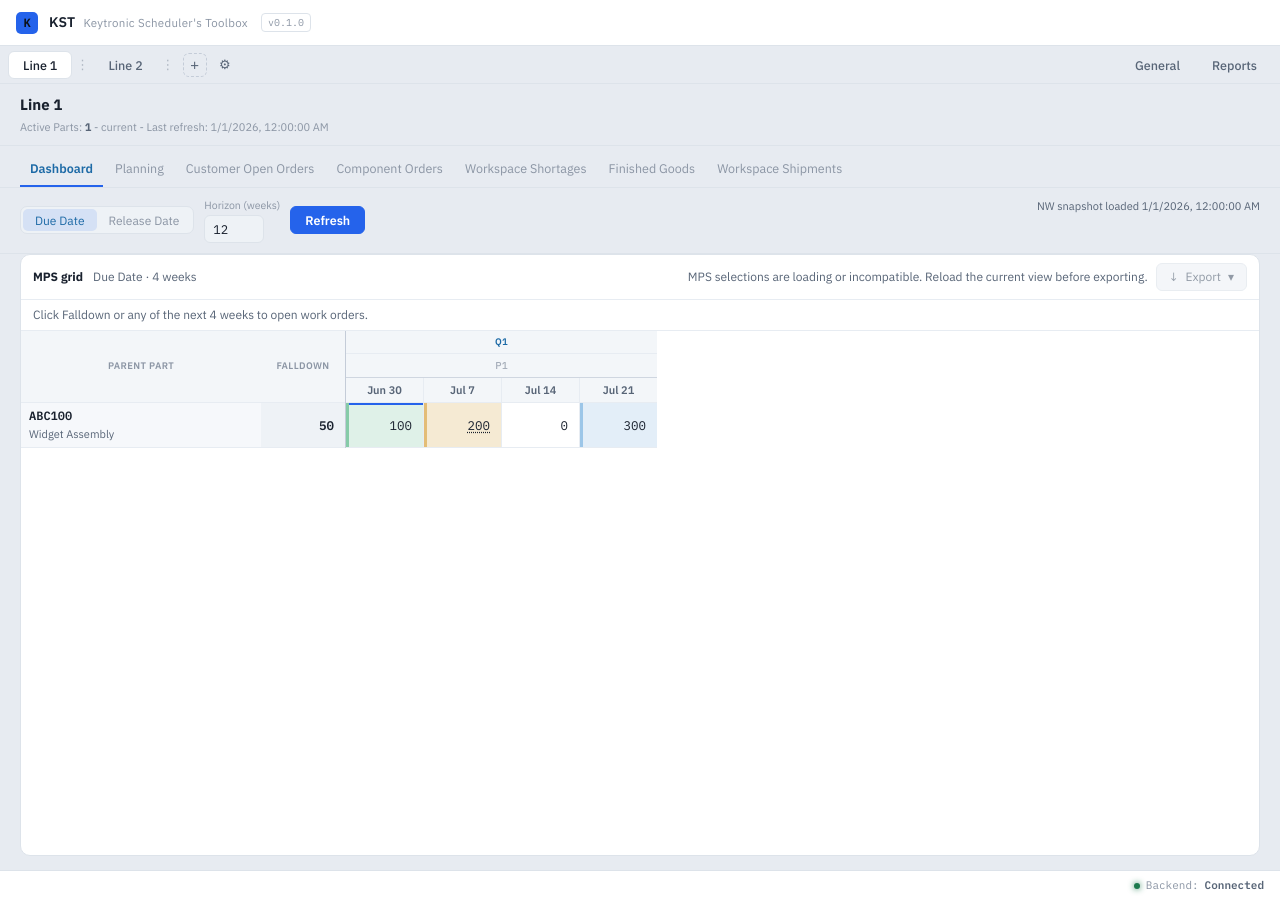
Test: MpsWorkspace › keeps the Dashboard state loaded while customer modules are switched
Check: the text "Backend:" reads "Backend: Connected", box [1134,877,1264,894]
Check: the text "ABC100" is shown, box [29,408,72,423]
Click the tab "Line 2" at (126, 64), box [93,50,158,78]
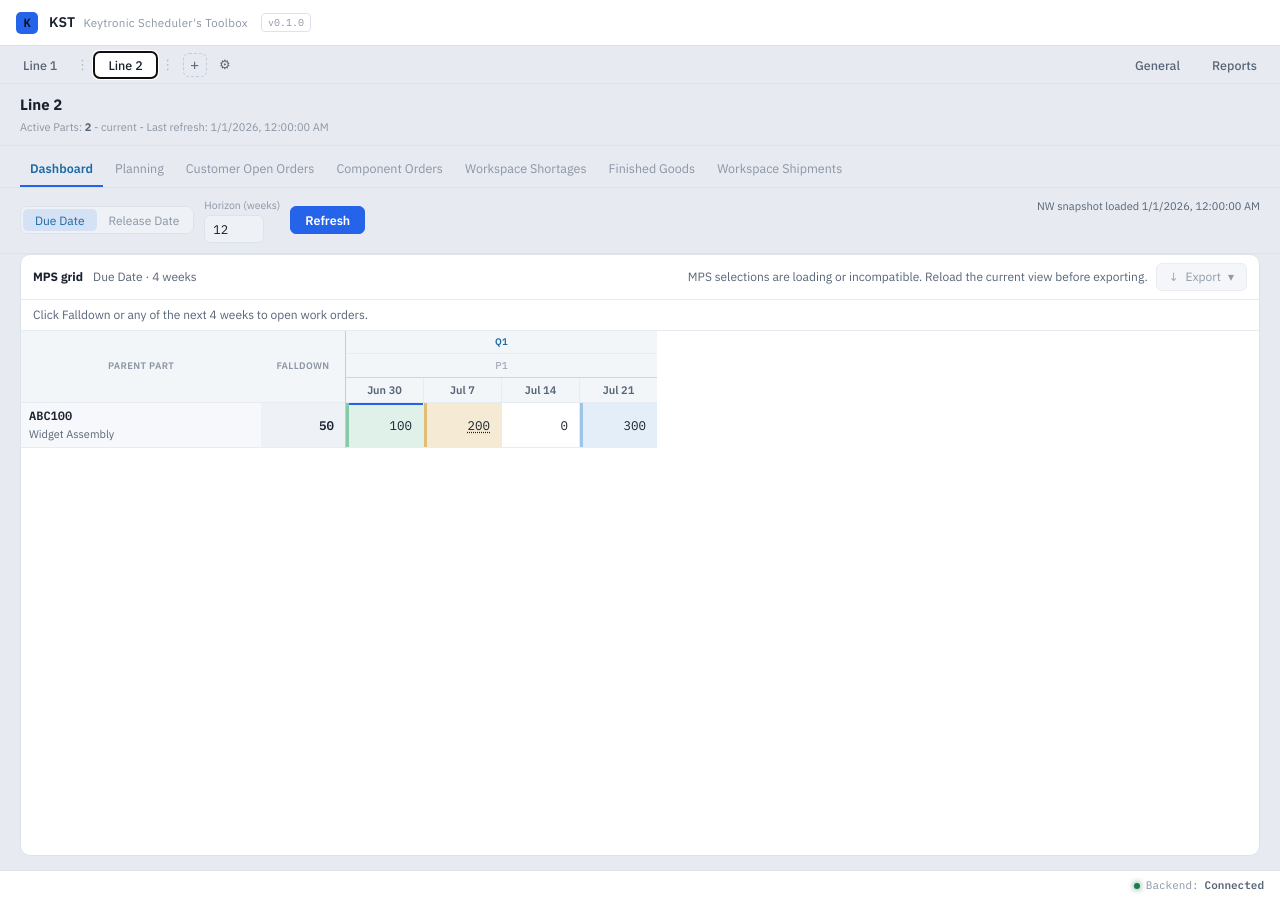
Check: the text with test id "active-parts-count" reads "2", box [85,120,91,134]
Click the text with class "mps-grid__part-number" at (51, 416), box [29,408,72,423]
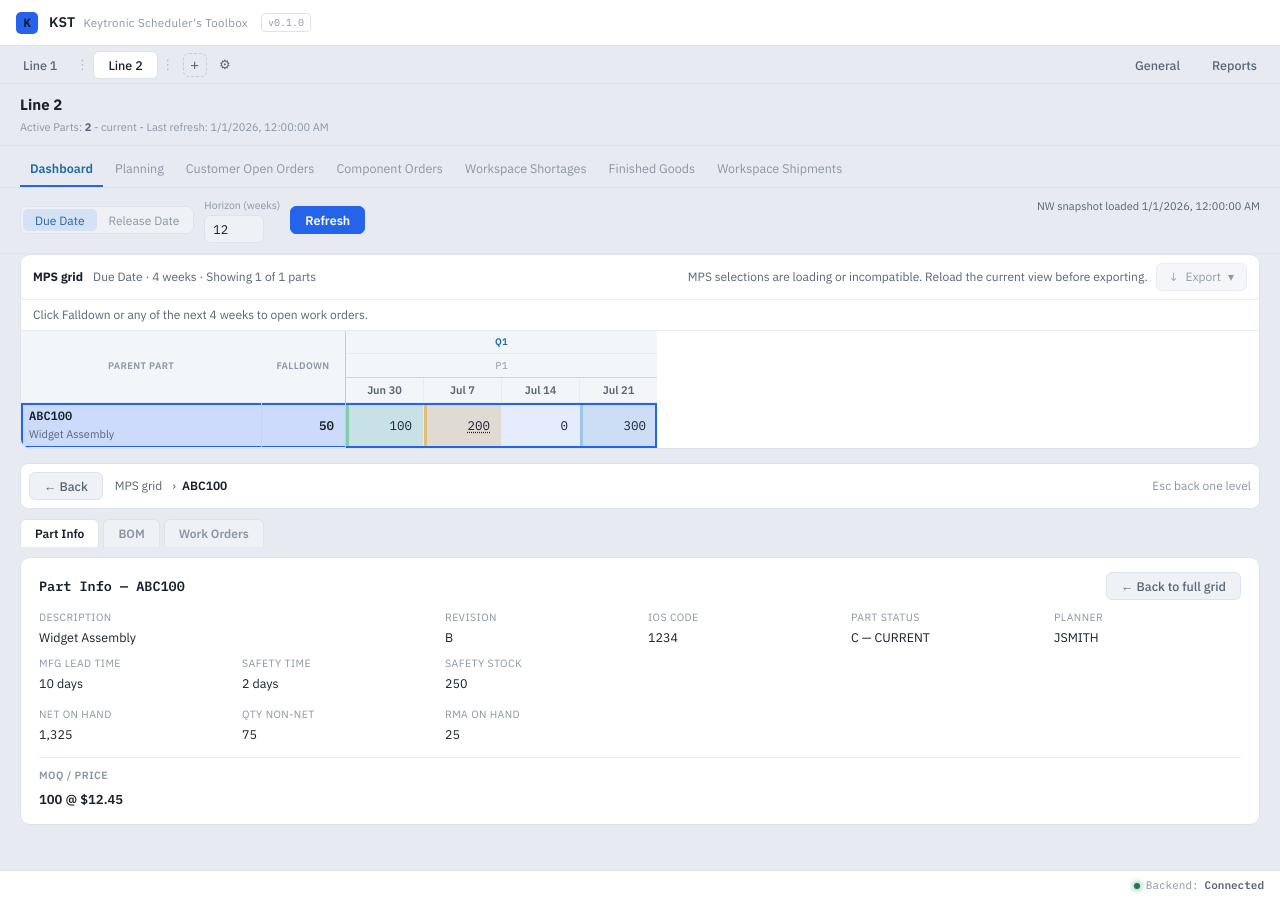
Check: the heading "Part Info — ABC100" is shown, box [39,576,185,596]
Click the tab "Component Orders" at (390, 169), box [326,152,453,187]
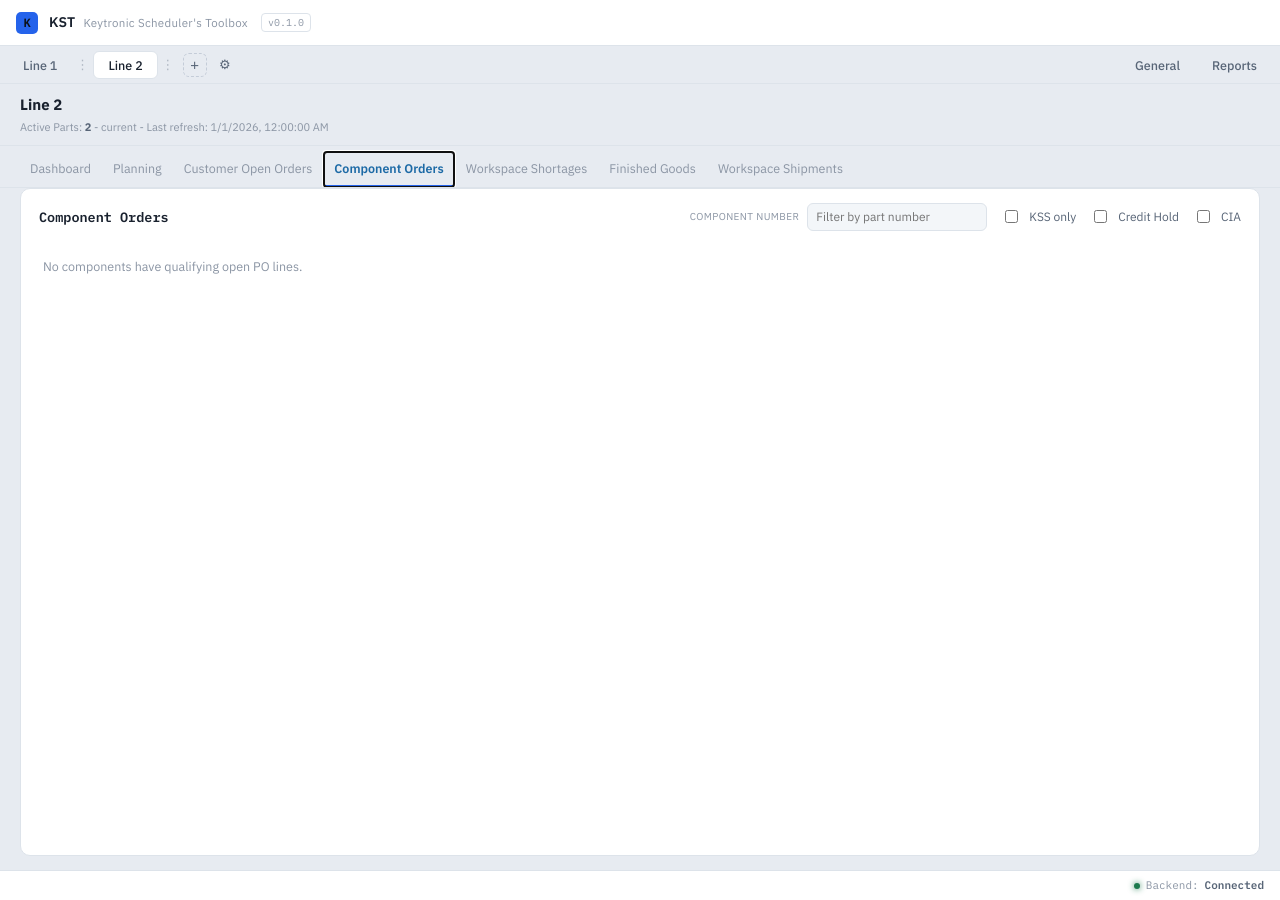
Check: the heading "Component Orders" is shown, box [39,207,169,227]
Check: the text "No components have qualifying open PO lines." is shown, box [43,258,302,274]
Click the tab "Dashboard" at (60, 169), box [20,152,101,187]
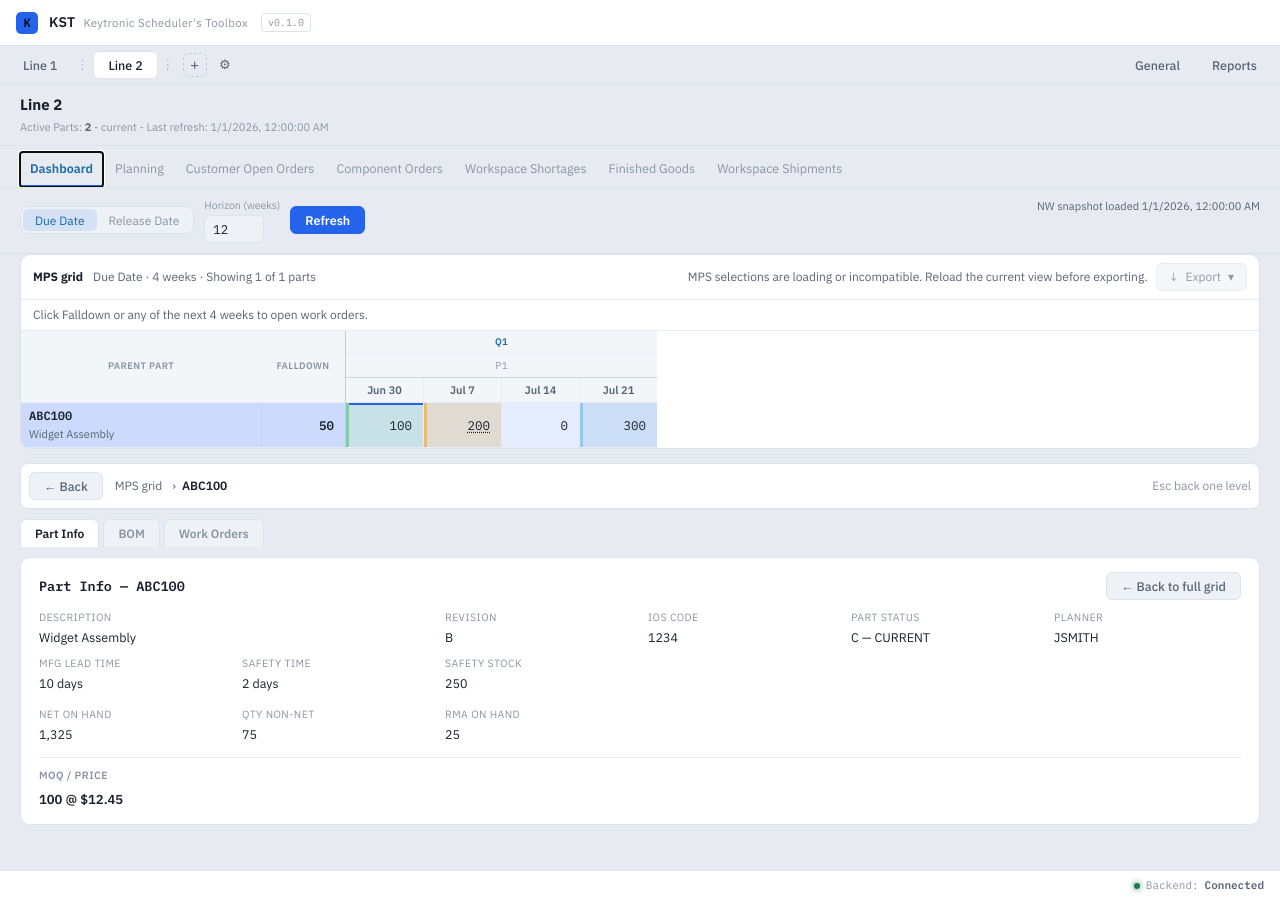
Check: the heading "Part Info — ABC100" is shown, box [39,576,185,596]
